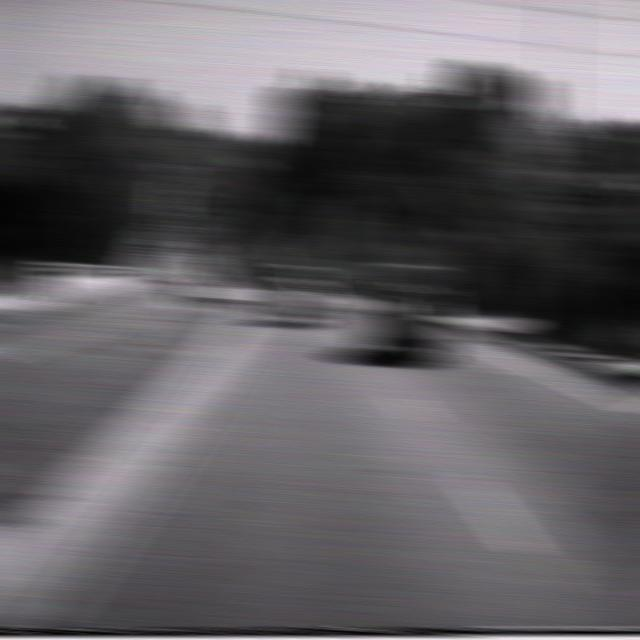speedLimit25: (169, 159, 214, 222), (534, 142, 578, 205)
